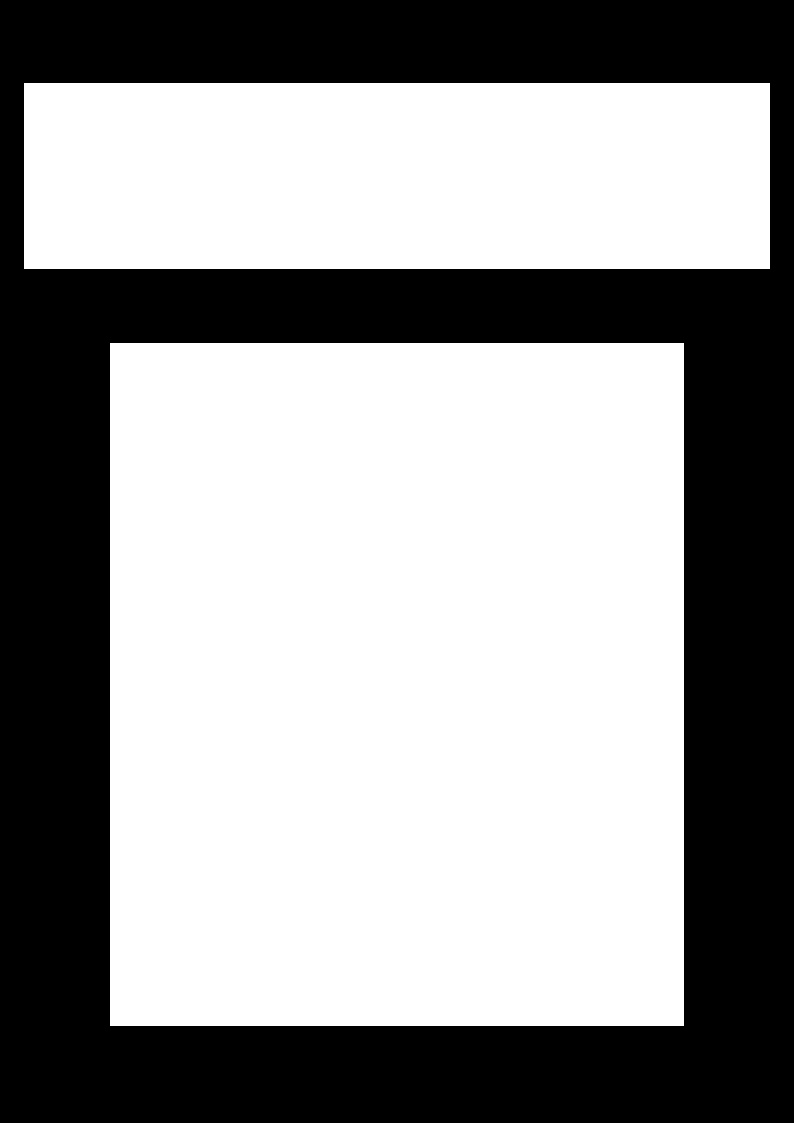table: (110, 343, 683, 1025), (24, 83, 769, 268)
